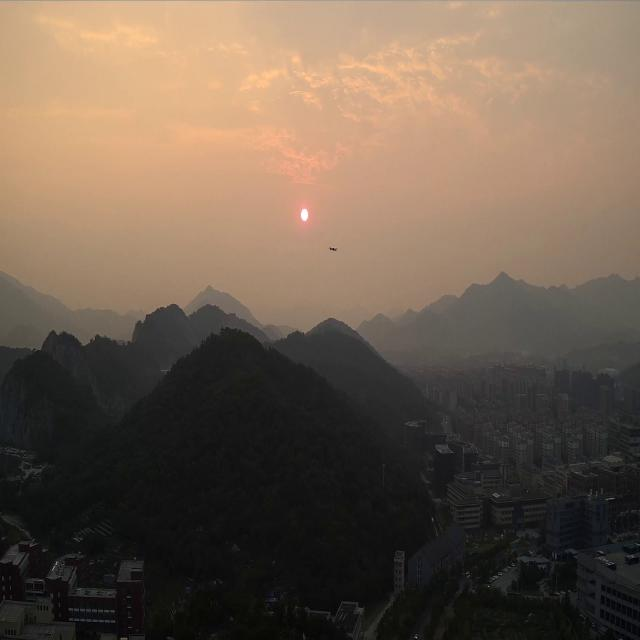drone: (328, 246, 338, 252)
